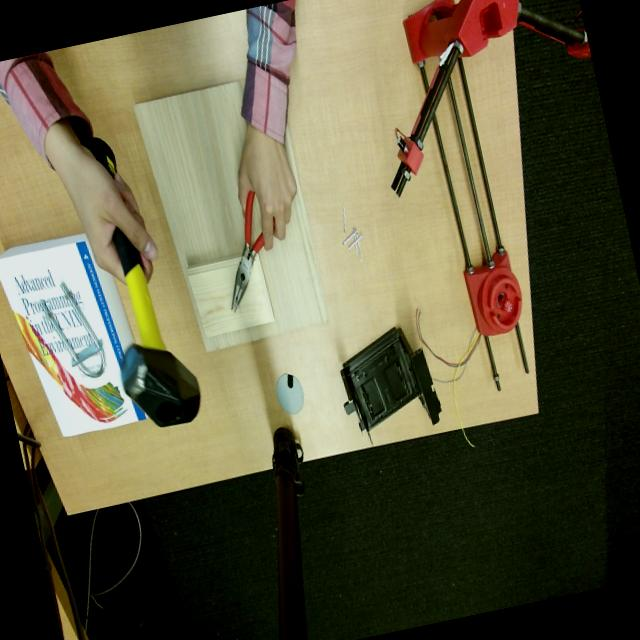hammer: (113, 227, 200, 426), (88, 137, 115, 175)
pliers: (231, 191, 264, 311)
